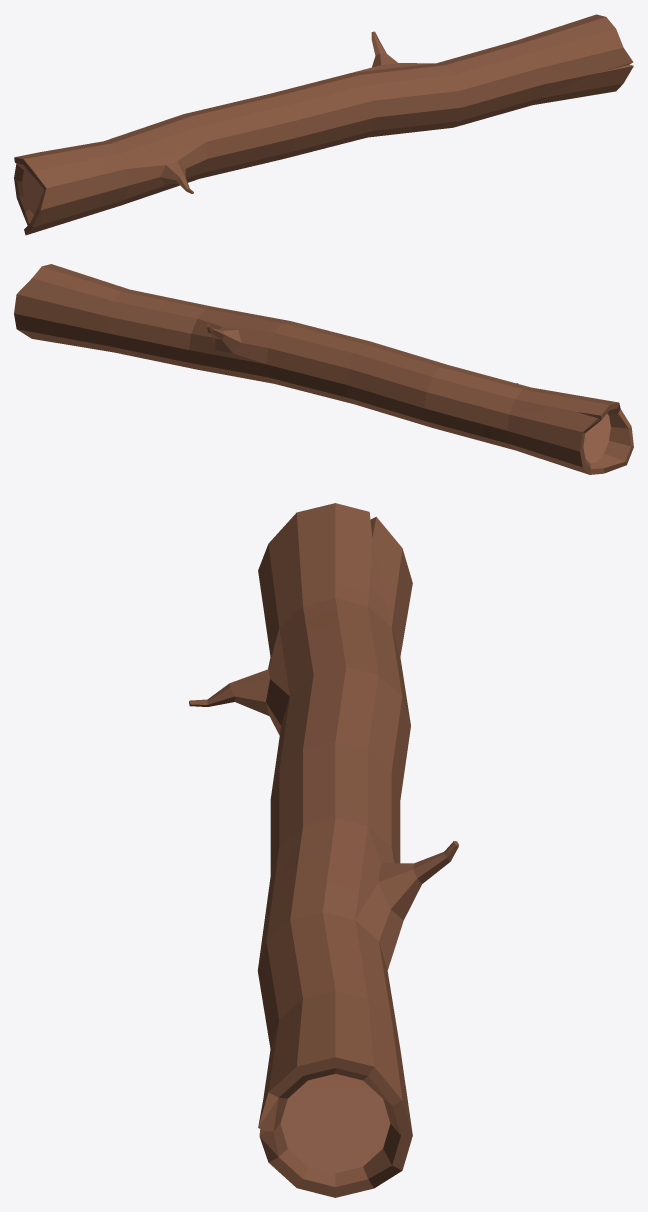
The model's file is mod_bg_RondinGrandLong.fbx.
3 views of the same model, one above another, from view 1: azimuth 30°, elevation 25°; view 2: azimuth 150°, elevation 25°; view 3: azimuth 270°, elevation 25° (orthographic). The views are drawn at different scales.
Parts seen in each view (by area): view 1: RondinGrandLong; view 2: RondinGrandLong; view 3: RondinGrandLong.
Boxes of the visible parts, x1,y1,x2,y2 form: RondinGrandLong: [14, 14, 633, 235]; RondinGrandLong: [14, 264, 633, 474]; RondinGrandLong: [189, 503, 458, 1197].
Size of the model in its own units: 400 by 53.8 by 80.16.
